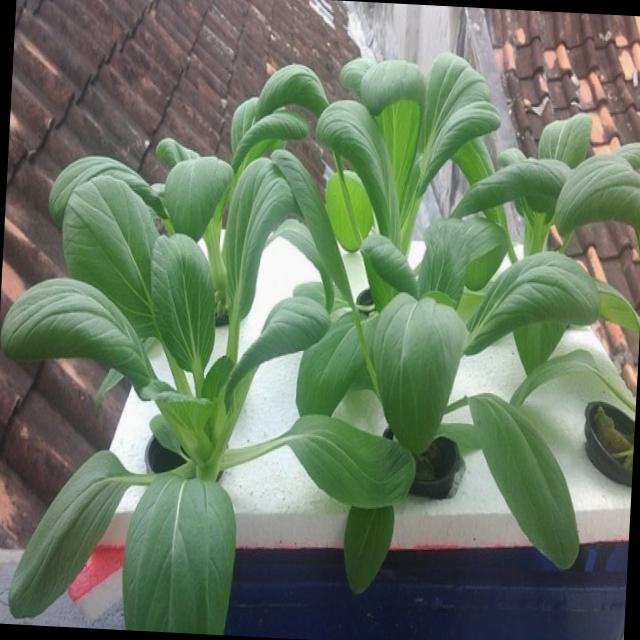pakcoy_sehat: (34, 85, 622, 572)
